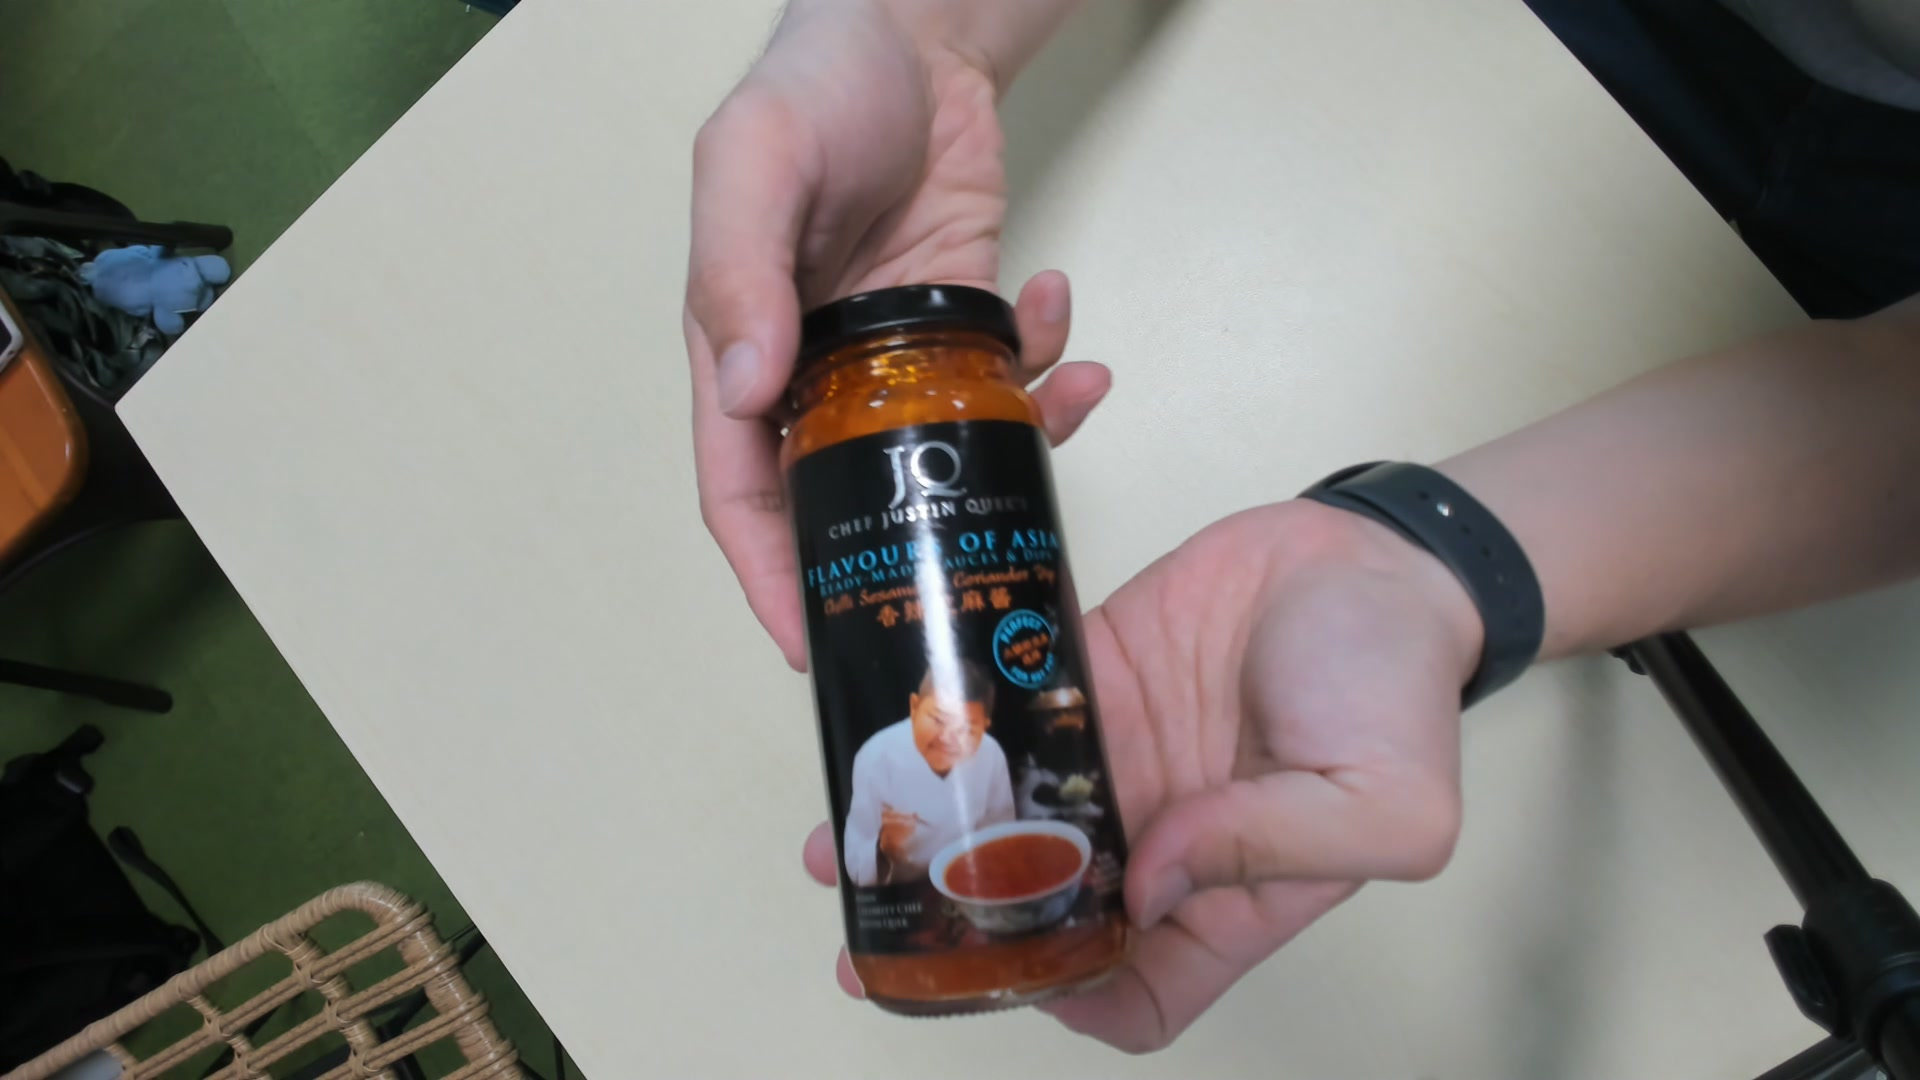OtherSauceDressing_300-399g_NonHalal_NonHealthy: (774, 280, 1130, 1026)
